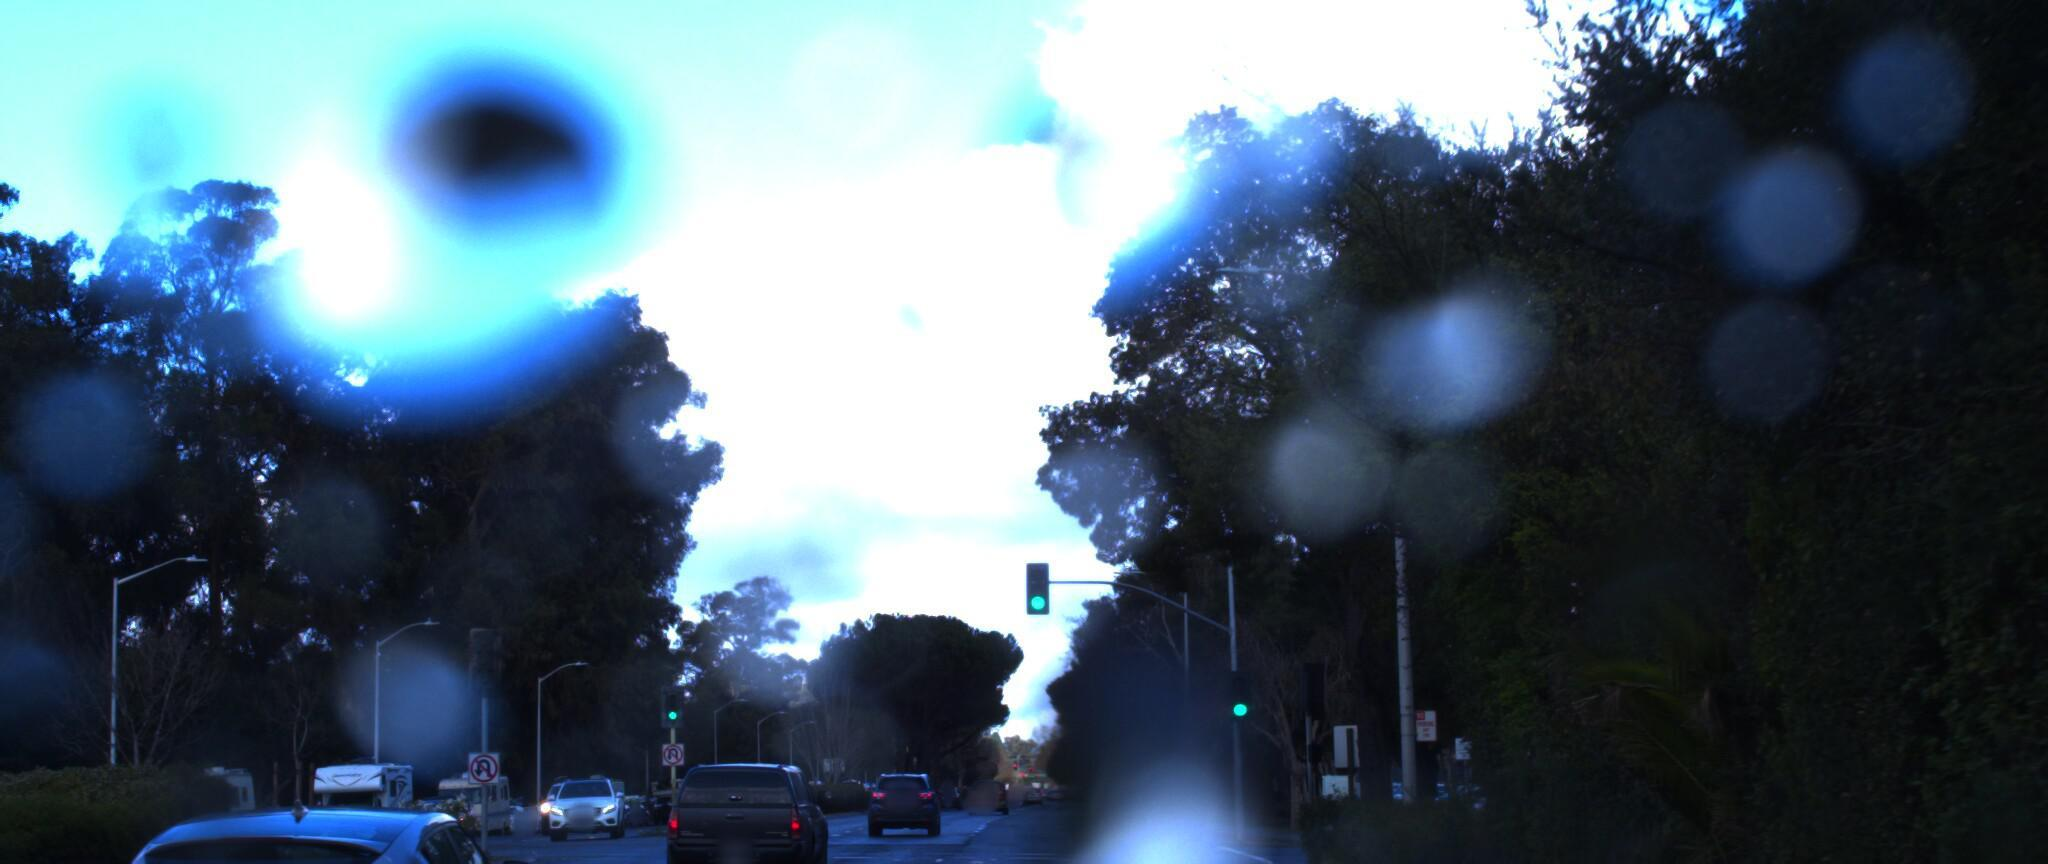car: (57, 773, 620, 864), (653, 744, 833, 864), (865, 750, 950, 818), (562, 770, 633, 837)
